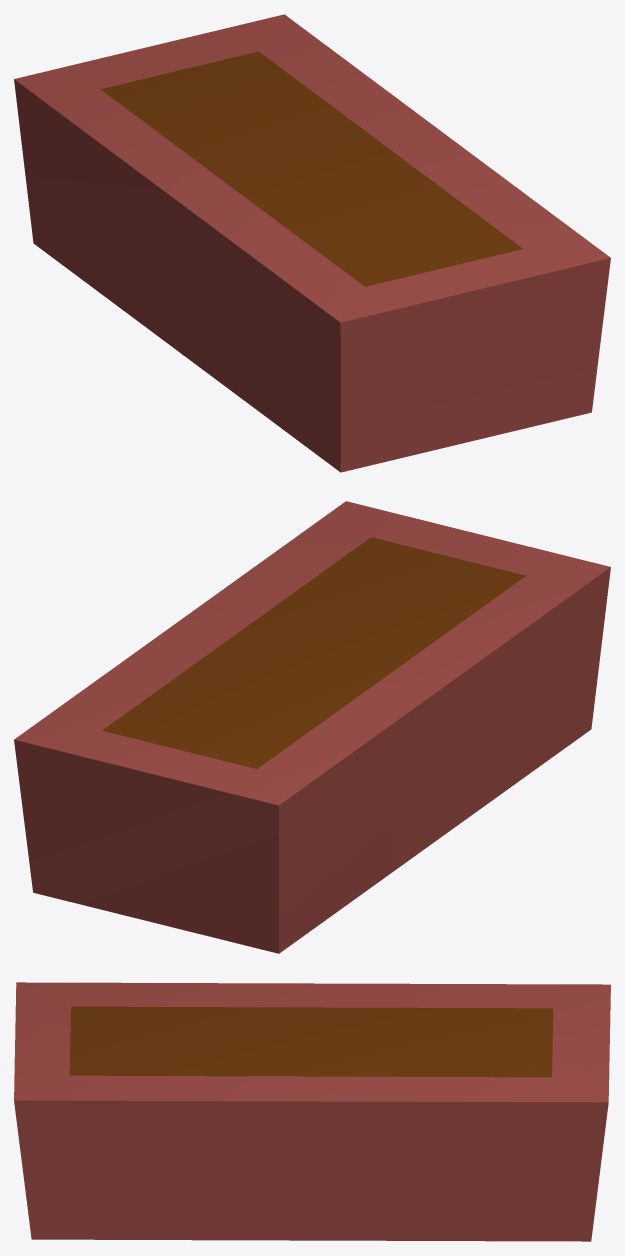
Rendered from flower_pot_07.fbx.
The picture shows the model from 3 angles, top to bottom: view 1: azimuth 30°, elevation 25°; view 2: azimuth 150°, elevation 25°; view 3: azimuth 270°, elevation 25°; orthographic projection. The views are drawn at different scales.
Parts seen in each view (by area): view 1: flower_pot_07; view 2: flower_pot_07; view 3: flower_pot_07.
Boxes of the visible parts, left/top/right/bottom form: flower_pot_07: left=14, top=14, right=610, bottom=472; flower_pot_07: left=14, top=501, right=610, bottom=953; flower_pot_07: left=14, top=982, right=610, bottom=1241.
Size of the model in its own units: 80.99 by 45.07 by 170.
